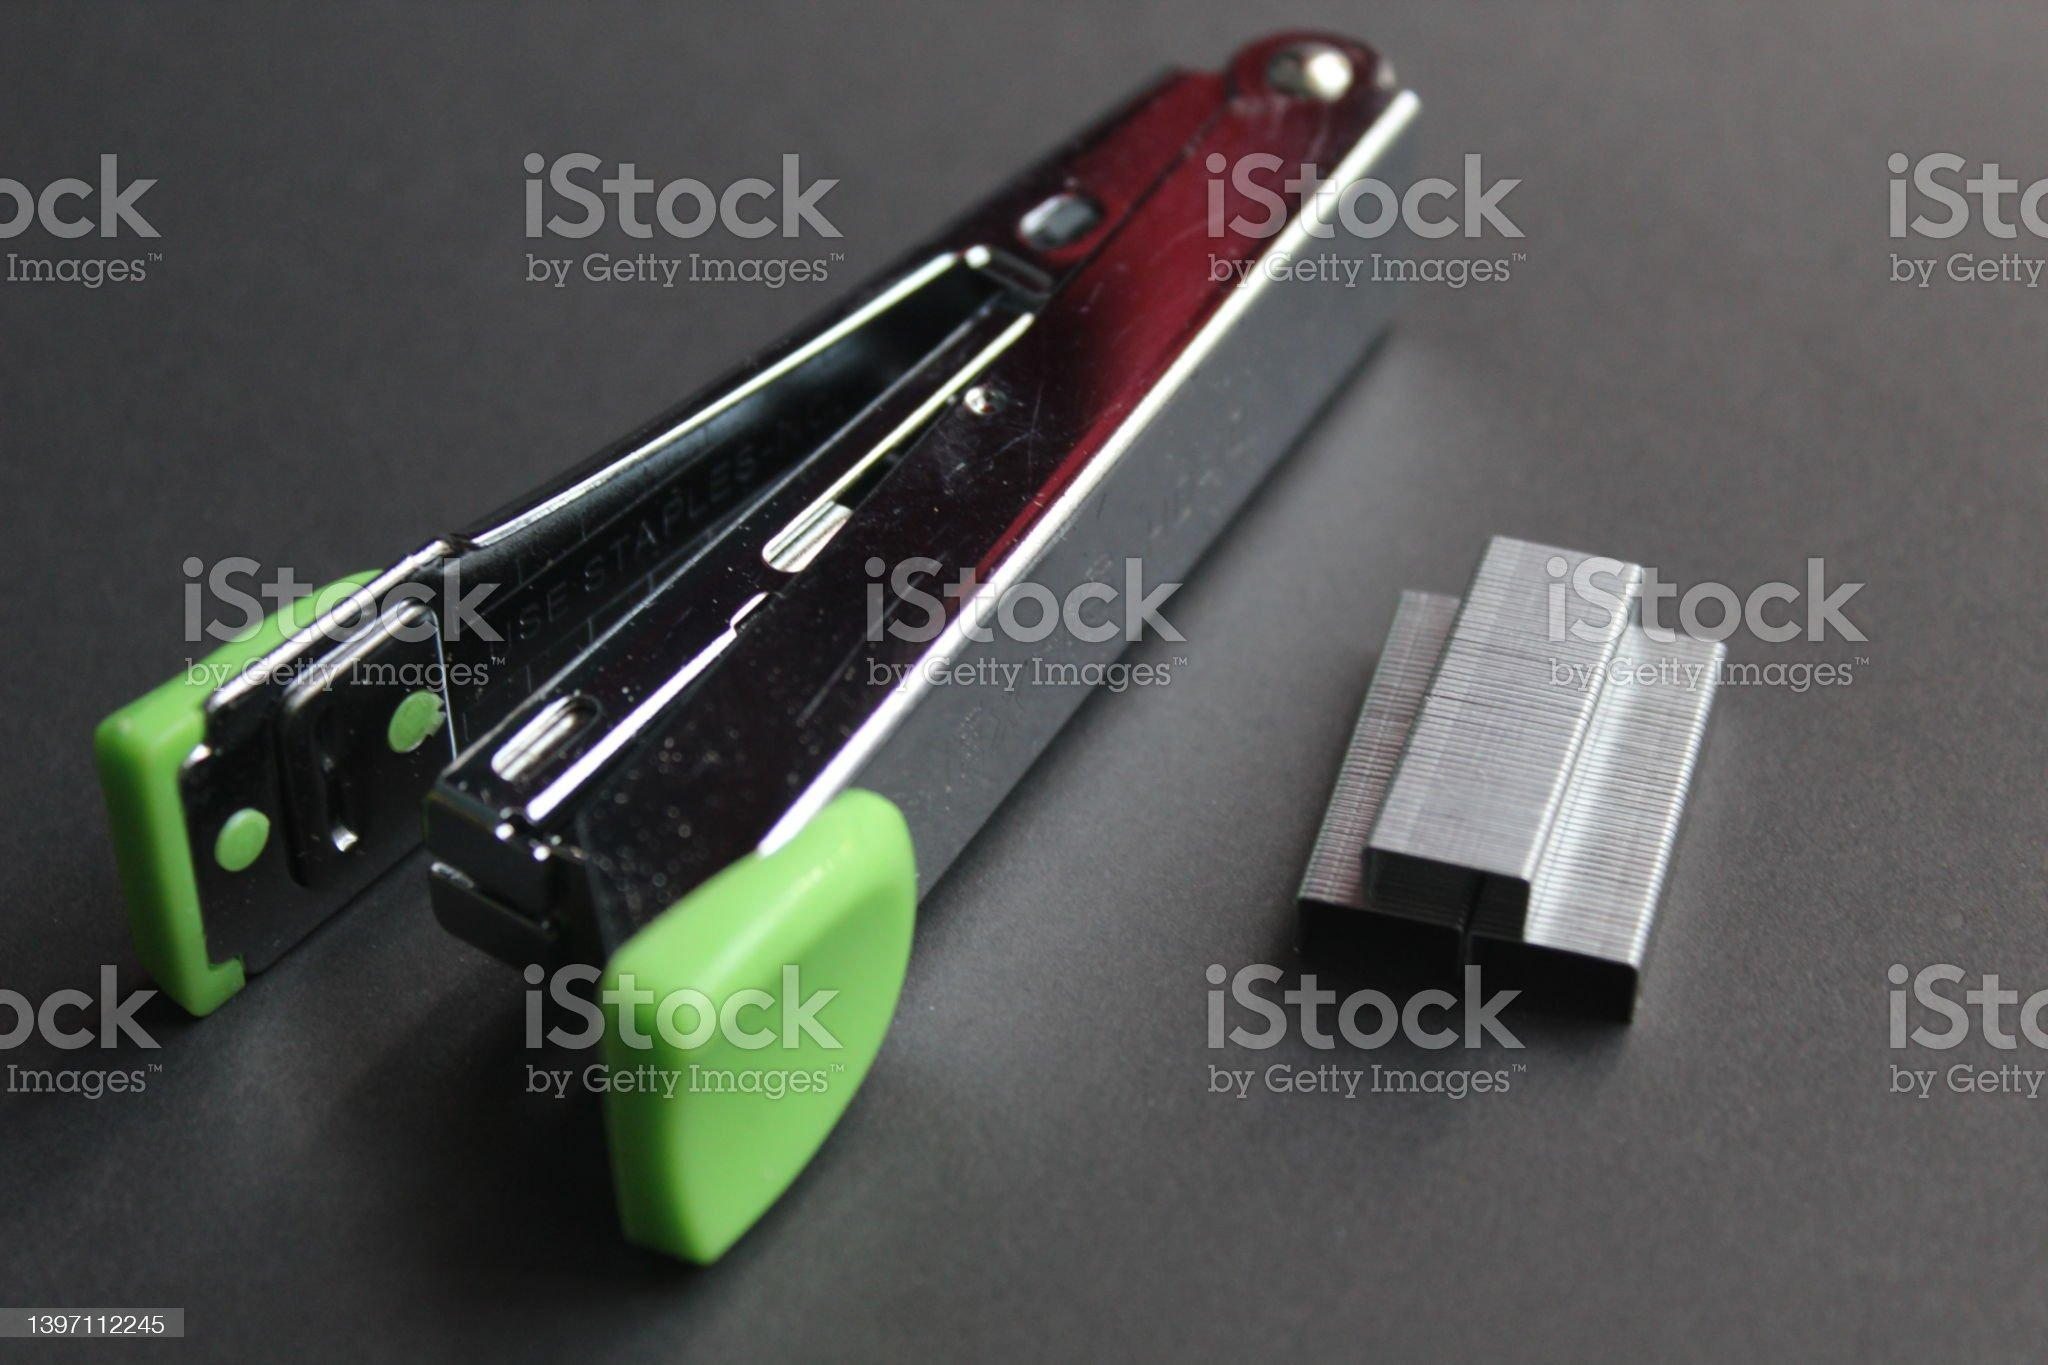Stapler: (76, 2, 1472, 1277)
